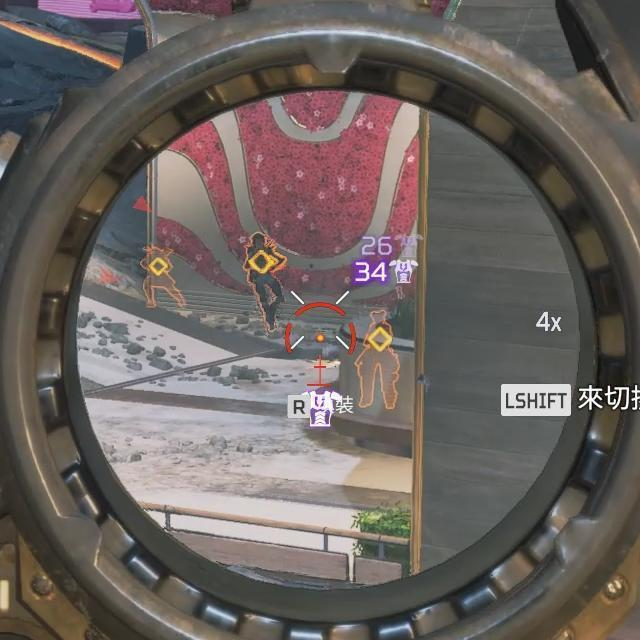avatar: (241, 232, 286, 335)
object: (365, 325, 394, 353), (246, 248, 276, 275), (148, 256, 169, 277)
